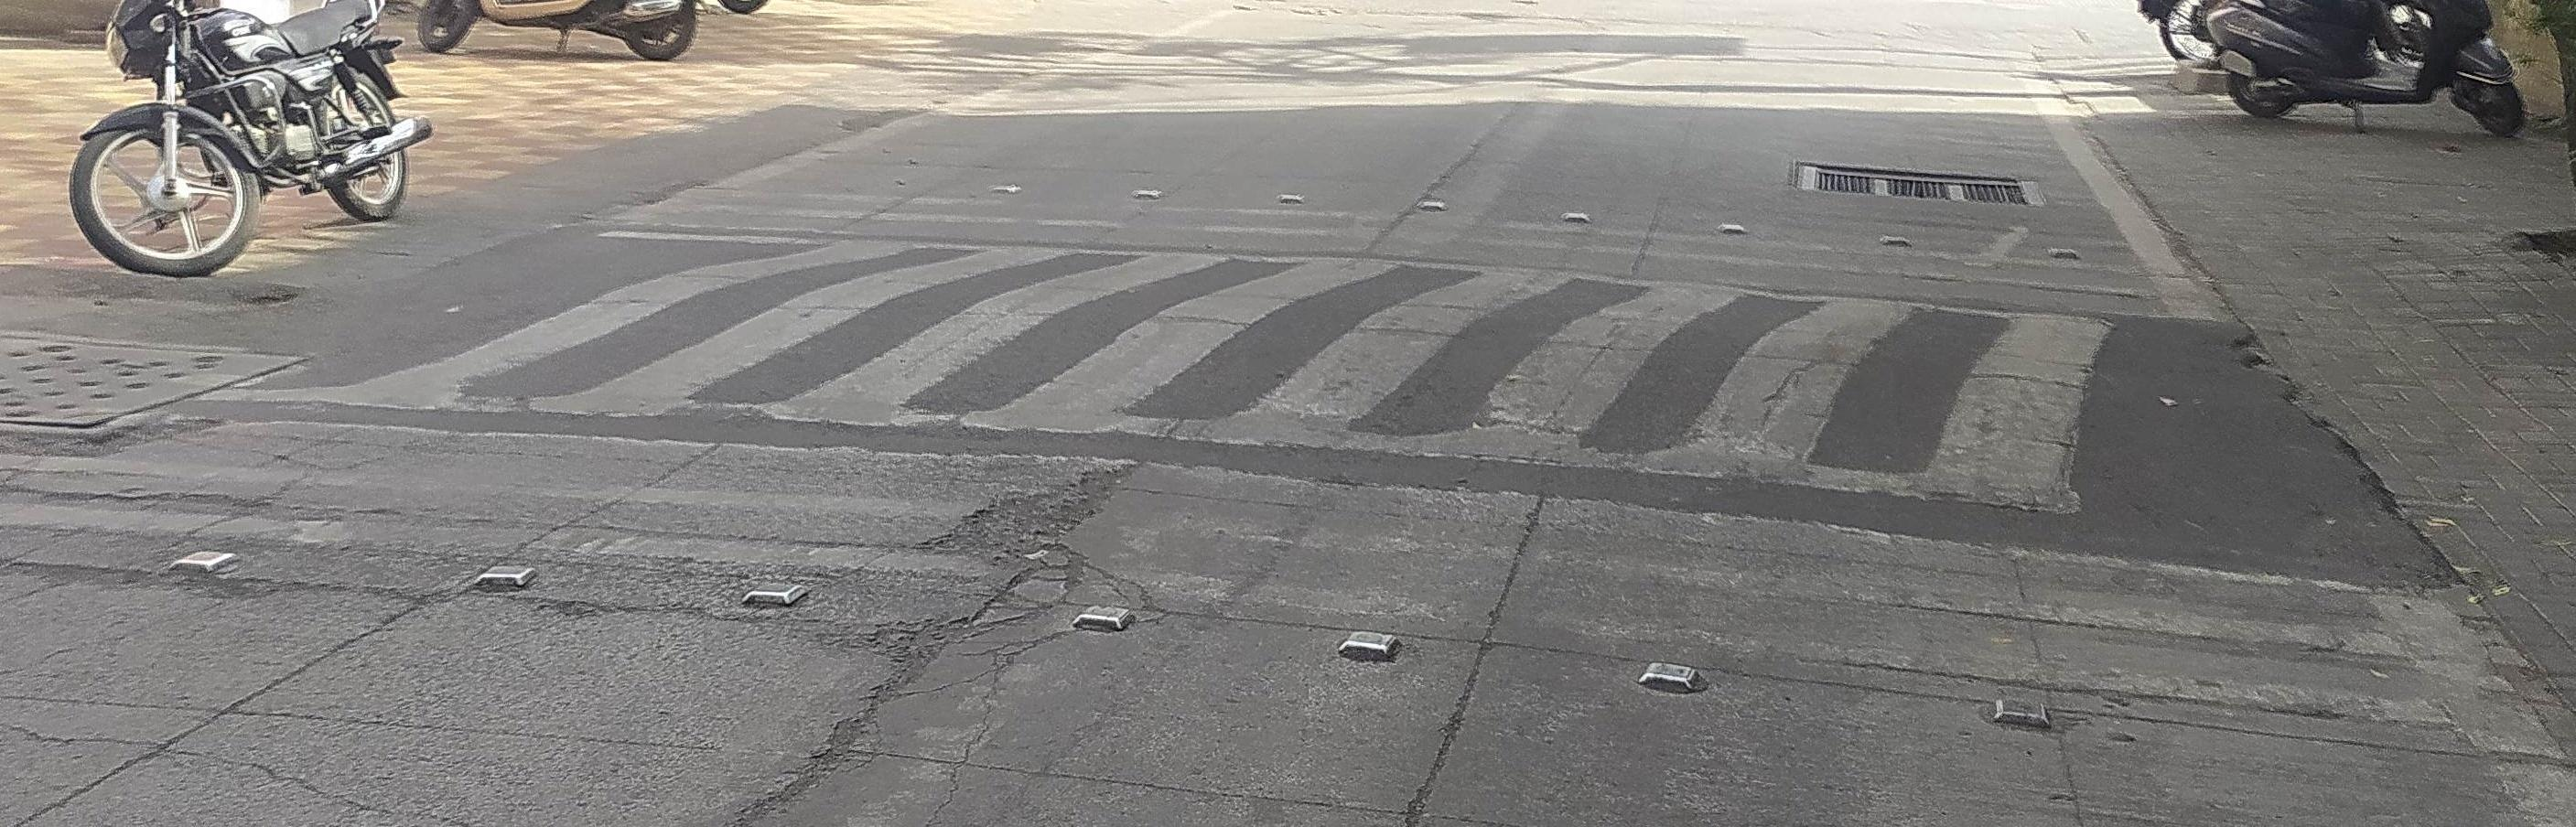speed-bump: (236, 212, 2455, 578)
